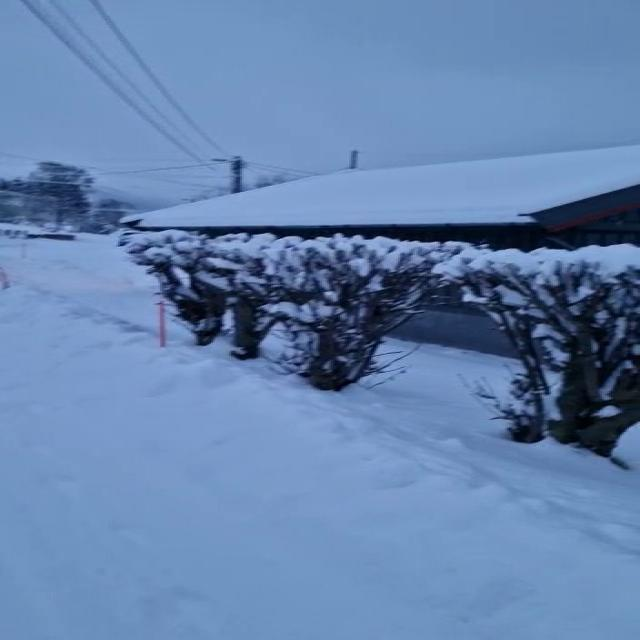path: (0, 297, 640, 640)
